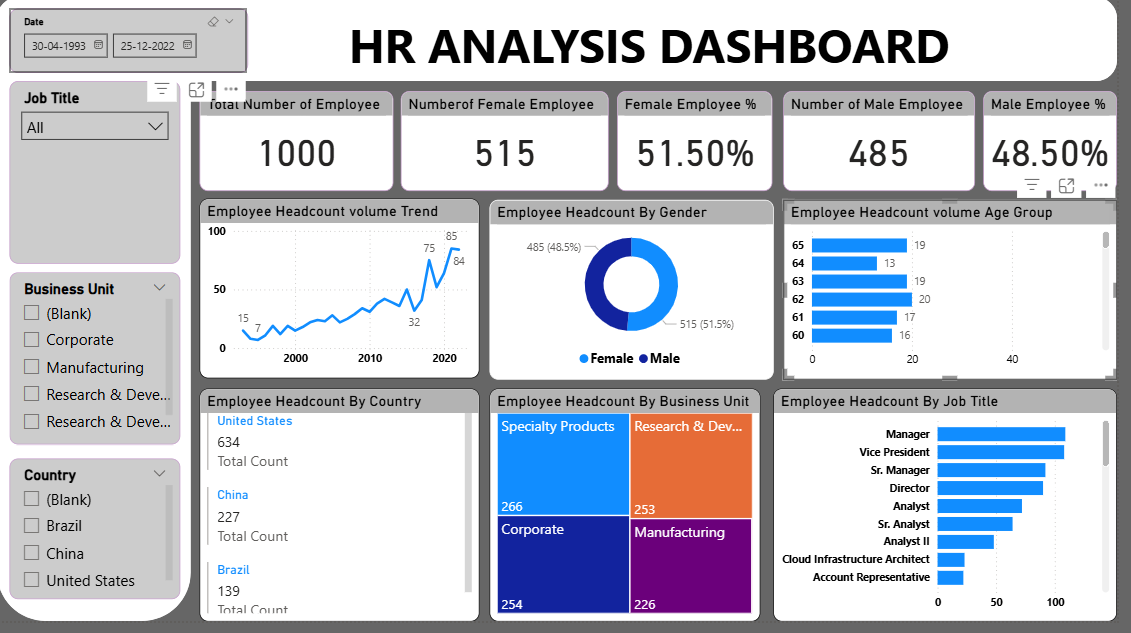

This screenshot's page, from the dashboard's own definition file:
{"tool":"powerbi","page":{"name":"Page 1","canvas":[1280,720],"ordinal":0},"visuals":[{"type":"shape","box":[0,7.5,221.4,712.8],"z":0},{"type":"shape","box":[0,7.5,1280,95.8],"z":1000},{"type":"card","title":"Total Number of Employee","fields":{"Values":["Employee Data.Total_Count"]},"box":[231.4,114.4,221.4,114.4],"z":2000},{"type":"lineChart","title":"Employee Headcount volume Trend","fields":{"Category":["Employee Data.Hire Date.Variation.Date Hierarchy.Year"],"Y":["CountNonNull(Employee Data.Employee ID)"]},"box":[231.4,237.6,319.7,205.3],"z":3000},{"type":"donutChart","title":"Employee Headcount By Gender","fields":{"Category":["Employee Data.Gender"],"Y":["CountNonNull(Employee Data.Employee ID)"]},"box":[562.3,238.8,324.7,205.3],"z":4000},{"type":"clusteredBarChart","title":"Employee Headcount volume Age Group","fields":{"Y":["CountNonNull(Employee Data.Employee ID)"],"Category":["Employee Data.Age"]},"box":[898.1,238.8,381.9,205.3],"z":5000},{"type":"decompositionTreeVisual","title":"Employee Headcount By Country","fields":{"Analyze":["CountNonNull(Employee Data.Country)"],"ExplainBy":["Employee Data.Country"]},"box":[231.4,454,319.7,266.2],"z":6000},{"type":"treemap","title":"Employee Headcount By Business Unit","fields":{"Group":["Employee Data.Business Unit"],"Values":["CountNonNull(Employee Data.Employee ID)"]},"box":[562.3,454,309.7,266.2],"z":7000},{"type":"clusteredBarChart","title":"Employee Headcount By Job Title","fields":{"Category":["Employee Data.Job Title"],"Y":["CountNonNull(Employee Data.Employee ID)"]},"box":[886.9,454,393.1,266.2],"z":8000},{"type":"card","title":" Female Employee %","fields":{"Values":["Employee Data.Female%"]},"box":[709.1,114.4,177.9,114.4],"z":9000},{"type":"card","title":"Male Employee %","fields":{"Values":["Employee Data.Male%"]},"box":[1127,114.4,153,114.4],"z":10000},{"type":"card","title":"Numberof Female Employee","fields":{"Values":["Employee Data.Total_Female_Count"]},"box":[461.5,114.4,237.6,114.4],"z":11000},{"type":"card","title":"Number of Male Employee","fields":{"Values":["Employee Data.Total_Male_Count"]},"box":[898.1,114.4,218.9,114.4],"z":12000},{"type":"shape","box":[221.2,18.8,1047.5,75],"z":13000},{"type":"slicer","title":"Total Number of Employee","fields":{"Values":["Employee Data.Business Unit"]},"box":[13.7,320.9,195.3,196.5],"z":14000},{"type":"slicer","title":"Total Number of Employee","fields":{"Values":["Employee Data.Country"]},"box":[13.7,533.7,195.3,160.5],"z":15000},{"type":"slicer","title":"Total Number of Employee","fields":{"Values":["Employee Data.Job Title"]},"box":[13.7,103.2,195.3,209],"z":16000},{"type":"slicer","title":"Total Number of Employee","fields":{"Values":["Employee Data.Hire Date"]},"box":[13.7,19.9,272.4,73.4],"z":17000}]}

Visuals, with their boxes in screenshot pixels (x1, y1, x2, y2):
shape: select_region(3, 0, 195, 616)
shape: select_region(3, 0, 1113, 81)
"Total Number of Employee" card: select_region(204, 90, 396, 190)
"Employee Headcount volume Trend" lineChart: select_region(204, 197, 481, 375)
"Employee Headcount By Gender" donutChart: select_region(491, 198, 772, 376)
"Employee Headcount volume Age Group" clusteredBarChart: select_region(782, 198, 1113, 376)
"Employee Headcount By Country" decompositionTreeVisual: select_region(204, 385, 481, 616)
"Employee Headcount By Business Unit" treemap: select_region(491, 385, 759, 616)
"Employee Headcount By Job Title" clusteredBarChart: select_region(772, 385, 1113, 616)
" Female Employee %" card: select_region(618, 90, 772, 190)
"Male Employee %" card: select_region(980, 90, 1113, 190)
"Numberof Female Employee" card: select_region(403, 90, 609, 190)
"Number of Male Employee" card: select_region(782, 90, 972, 190)
shape: select_region(195, 7, 1103, 73)
"Total Number of Employee" slicer: select_region(15, 269, 184, 440)
"Total Number of Employee" slicer: select_region(15, 454, 184, 593)
"Total Number of Employee" slicer: select_region(15, 81, 184, 262)
"Total Number of Employee" slicer: select_region(15, 8, 251, 72)
